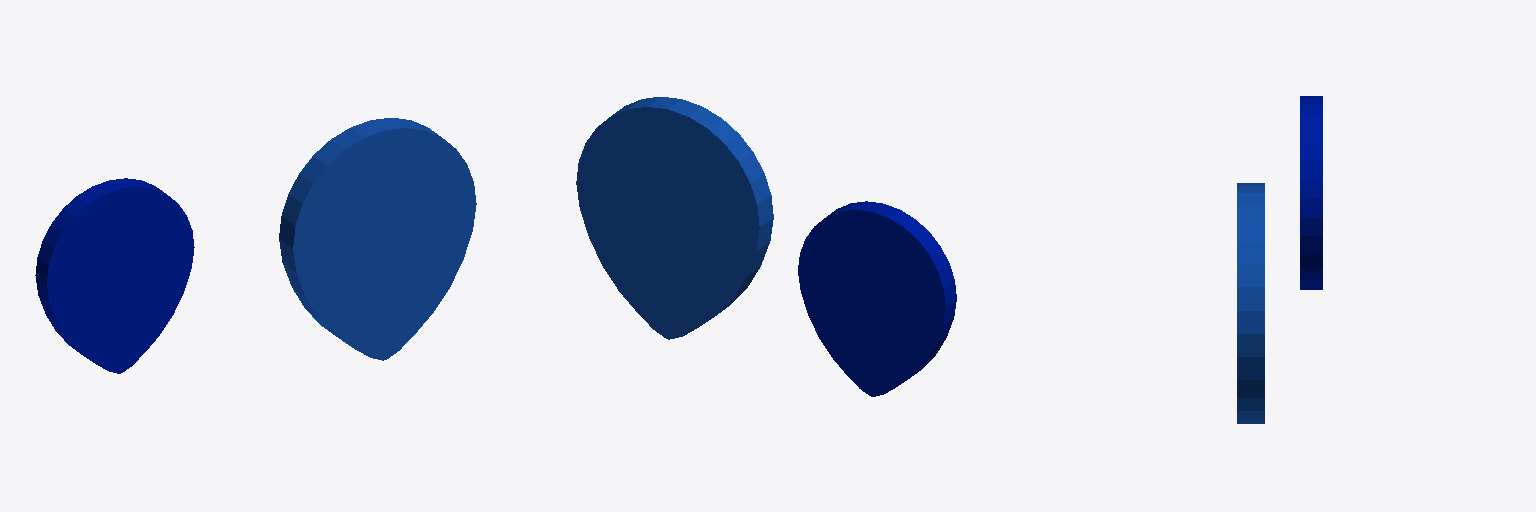
Rendered from matongquan.obj.
3 renders of one model, left to right at view 1: azimuth 30°, elevation 25°; view 2: azimuth 150°, elevation 25°; view 3: azimuth 270°, elevation 25°, orthographic.
Parts seen in each view (by area): view 1: Donut003, Donut002; view 2: Donut003, Donut002; view 3: Donut003, Donut002.
Part boxes in pixels (left/top/right/bottom): Donut003: left=279, top=118, right=476, bottom=360; Donut002: left=35, top=178, right=194, bottom=373; Donut003: left=576, top=97, right=773, bottom=339; Donut002: left=798, top=201, right=956, bottom=396; Donut003: left=1237, top=183, right=1264, bottom=423; Donut002: left=1300, top=96, right=1322, bottom=289.
Size of the model in its own units: 404 by 223 by 75.51.